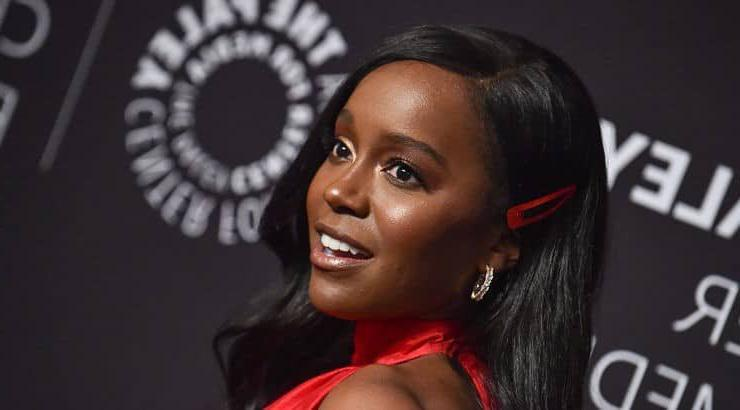Sober: (304, 84, 475, 304)
